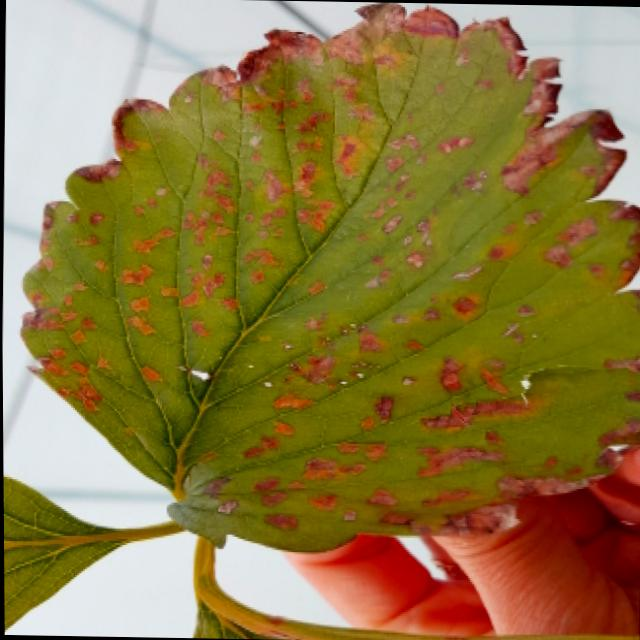Angular Leafspot: (17, 1, 640, 553), (3, 468, 126, 630)
